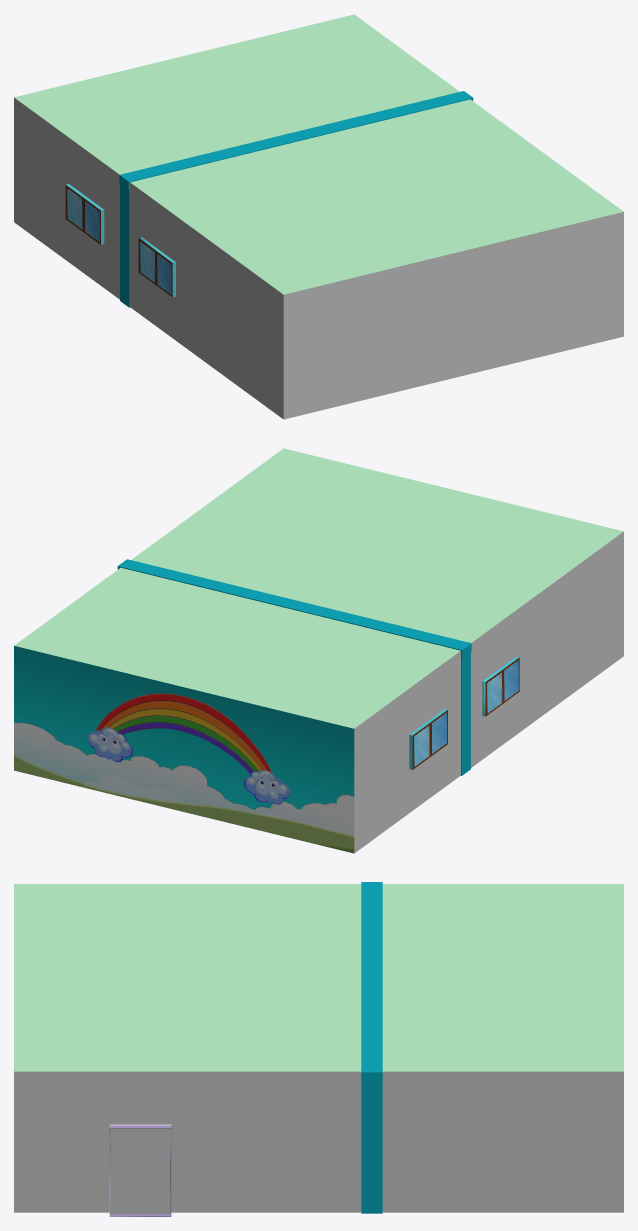
Rendered from ClassRoom.fbx.
3 views of the same model, one above another, from view 1: azimuth 30°, elevation 25°; view 2: azimuth 150°, elevation 25°; view 3: azimuth 270°, elevation 25° (orthographic). The views are drawn at different scales.
Parts seen in each view (by area): view 1: ClassRoom; view 2: ClassRoom; view 3: ClassRoom.
Part boxes in pixels (bbox=[...]): ClassRoom: bbox=[14, 14, 623, 419]; ClassRoom: bbox=[14, 448, 623, 853]; ClassRoom: bbox=[14, 882, 623, 1216].
Bounding box in the file's own units: 1555 × 534 × 2068.
